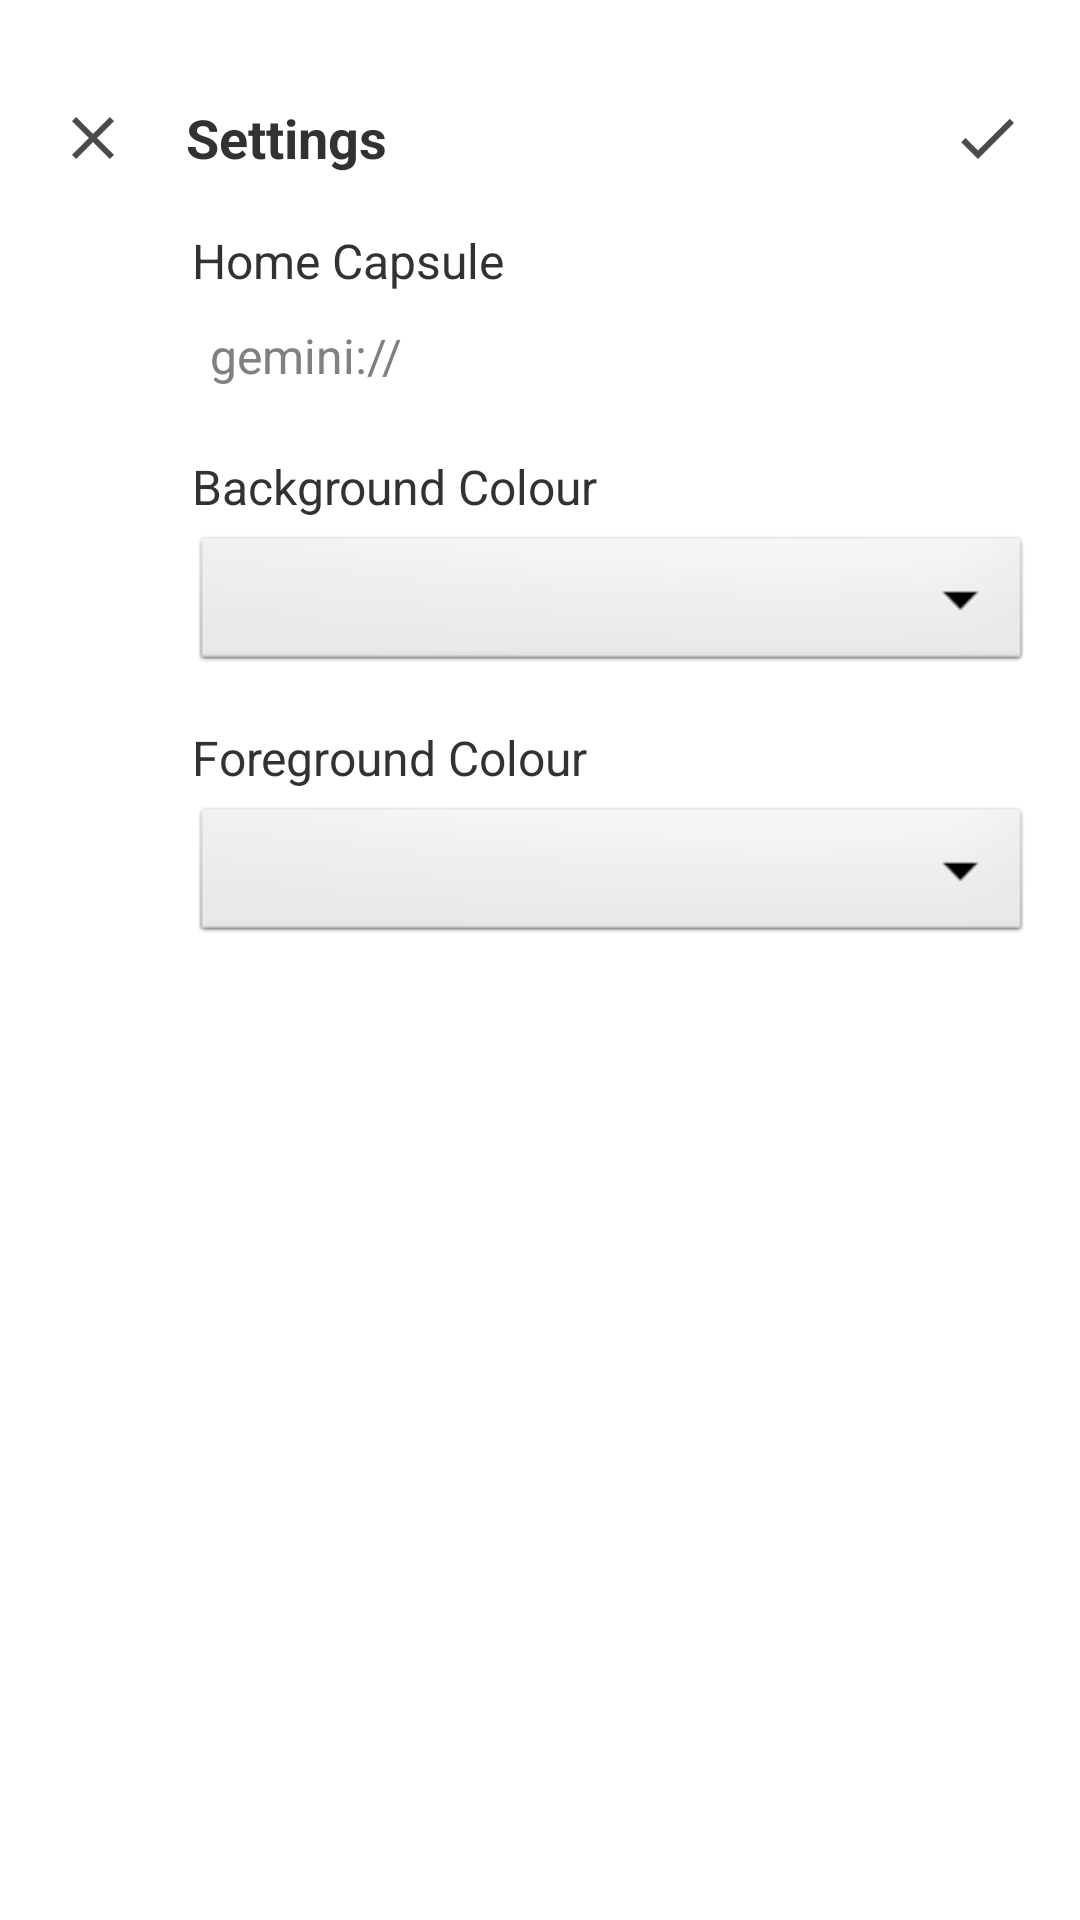

Named icons in this screenshot (1080px x 1920px) and their bounding boxes, (x1, y1, x2, y2):
close: (72, 117, 114, 159)
save: (961, 119, 1014, 159)
